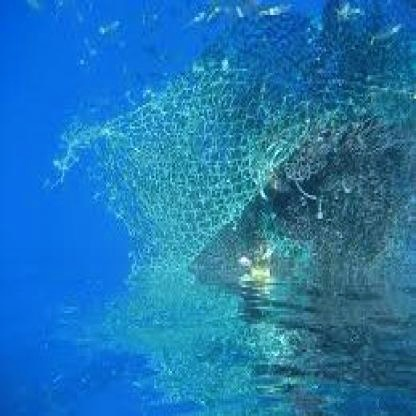net: (106, 69, 416, 313)
